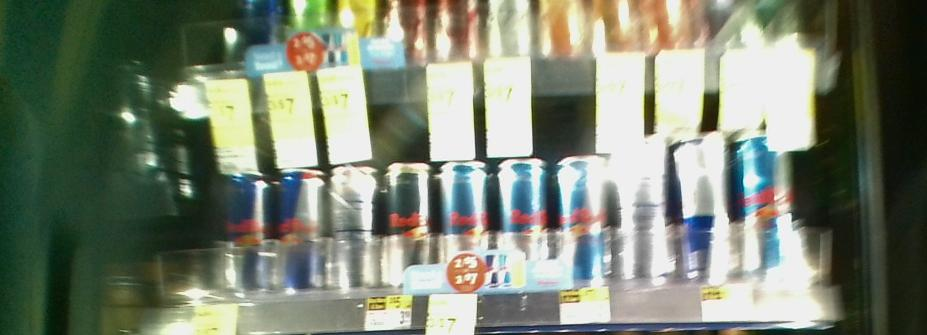bottle: (735, 129, 792, 282), (618, 135, 670, 297), (678, 134, 730, 292), (495, 156, 550, 298), (557, 146, 607, 298), (440, 157, 489, 301), (386, 157, 435, 299), (275, 156, 323, 300), (327, 154, 376, 294), (225, 164, 269, 302)
